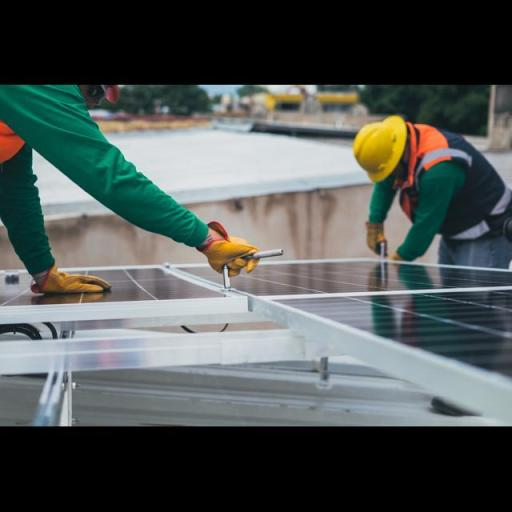Person: (331, 103, 512, 267)
gloves: (193, 220, 267, 282), (28, 257, 114, 299), (354, 216, 394, 258)
helmet: (337, 105, 410, 181)
